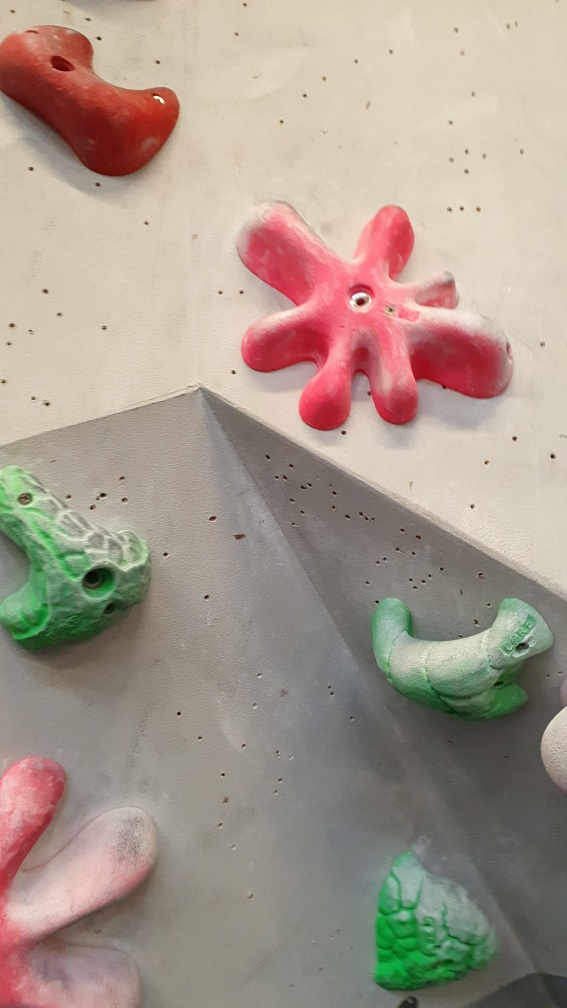Jug: (365, 587, 560, 729), (371, 843, 500, 999)
Octopus Pinch: (236, 201, 519, 429), (3, 749, 166, 1007)
